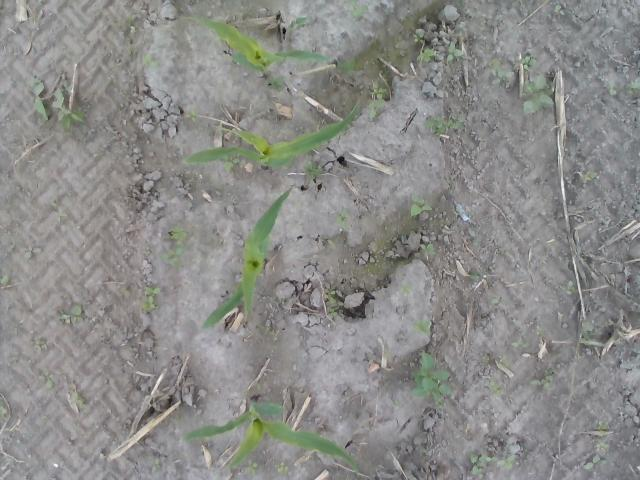Maize: (180, 398, 360, 476), (202, 186, 294, 330), (181, 100, 360, 170), (181, 13, 339, 77)
Weeds: (29, 78, 86, 129), (411, 348, 453, 412), (521, 74, 556, 112), (424, 112, 466, 138), (487, 55, 513, 88), (366, 80, 386, 116), (410, 192, 433, 222), (469, 454, 496, 478), (527, 366, 552, 390), (160, 246, 188, 266), (582, 453, 608, 474), (140, 286, 160, 313), (55, 305, 83, 324), (322, 288, 340, 316), (166, 222, 189, 243), (582, 318, 596, 352), (412, 318, 432, 338), (287, 15, 312, 31), (446, 42, 464, 63), (302, 158, 321, 177), (416, 48, 441, 62), (496, 454, 515, 471), (336, 208, 352, 228), (39, 367, 54, 388), (51, 200, 64, 224), (518, 54, 535, 70), (351, 0, 368, 16), (578, 170, 598, 183), (594, 420, 610, 436), (222, 156, 240, 170), (71, 390, 86, 406), (143, 54, 160, 68), (418, 243, 436, 256), (490, 380, 503, 397), (398, 282, 414, 295), (624, 81, 640, 94), (336, 62, 353, 74), (24, 247, 42, 258), (270, 78, 284, 92), (182, 110, 198, 122), (510, 338, 528, 348), (246, 460, 256, 476), (607, 79, 617, 95), (275, 462, 288, 474), (0, 400, 8, 419), (150, 457, 160, 472), (35, 340, 47, 352), (553, 4, 565, 16), (456, 22, 466, 36), (595, 442, 608, 452), (222, 126, 236, 134), (536, 322, 544, 336), (413, 34, 424, 44), (498, 354, 508, 364), (390, 399, 401, 408), (224, 54, 238, 61), (564, 288, 576, 296), (0, 275, 8, 285), (469, 271, 478, 279), (482, 354, 489, 363), (128, 15, 134, 24), (202, 123, 210, 128)
